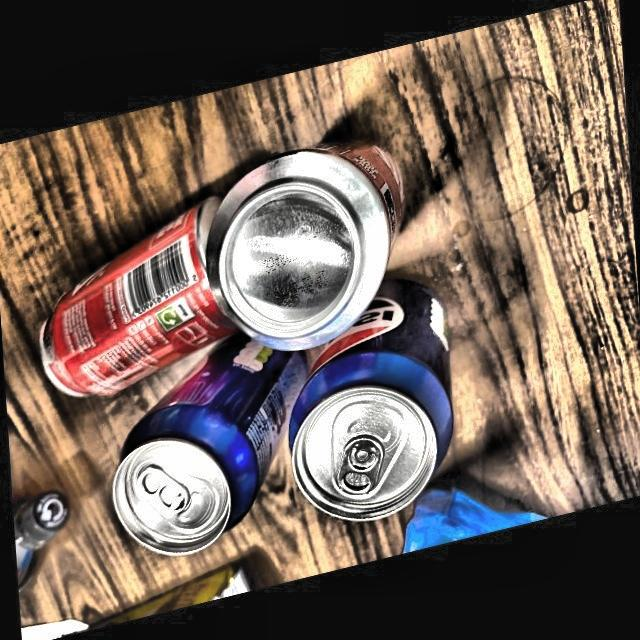coke-can: (223, 146, 397, 350), (42, 215, 222, 392)
pepsi-can: (106, 340, 298, 558), (292, 289, 456, 521)
